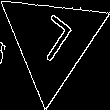L_SW: (26, 11, 77, 70)
